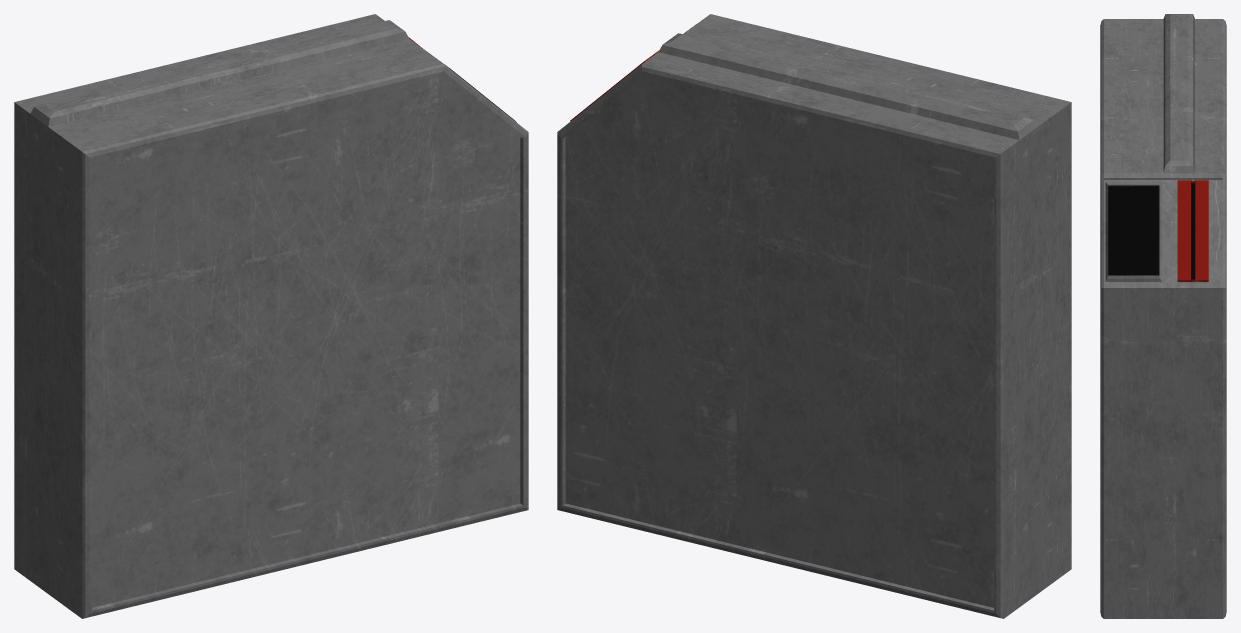
Rendered from turniket_base.fbx.
3 renders of one model, left to right at view 1: azimuth 30°, elevation 25°; view 2: azimuth 150°, elevation 25°; view 3: azimuth 270°, elevation 25°, orthographic. The views are drawn at different scales.
Parts seen in each view (by area): view 1: bake; view 2: bake; view 3: bake.
Boxes of the visible parts, box(x1,y1,x2,y2) form: bake: box(14, 14, 528, 618); bake: box(557, 14, 1071, 618); bake: box(1100, 14, 1226, 618).
Bounding box in the file's own units: 200 × 204 × 56.
Materials: 1 (1 with a texture image).
